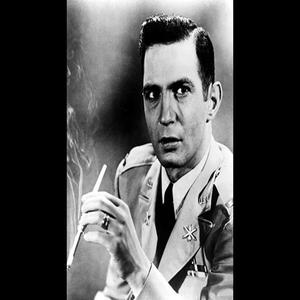cigarette: (68, 158, 106, 264)
